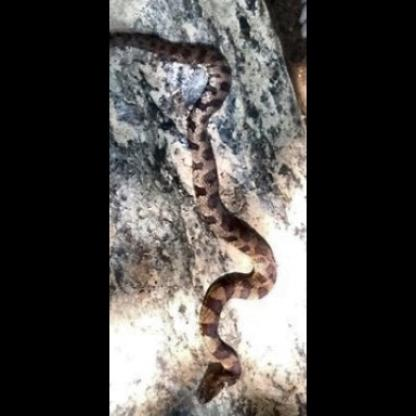Snake: (134, 8, 279, 416)
